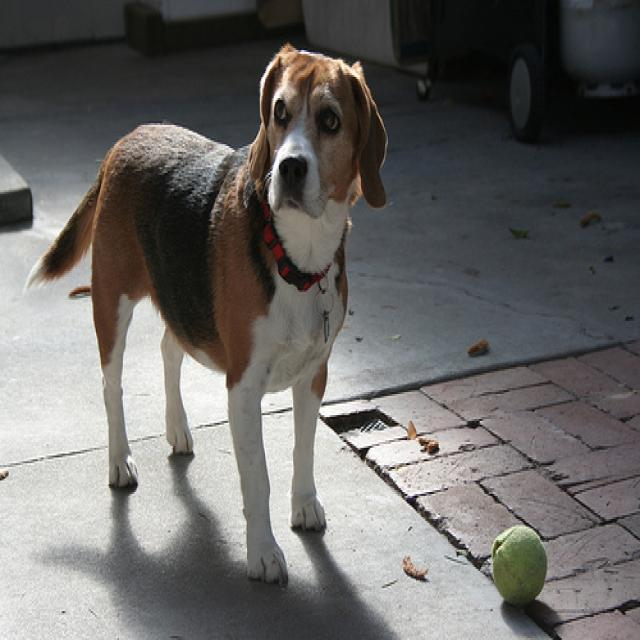dog-beagle: (29, 35, 392, 584)
